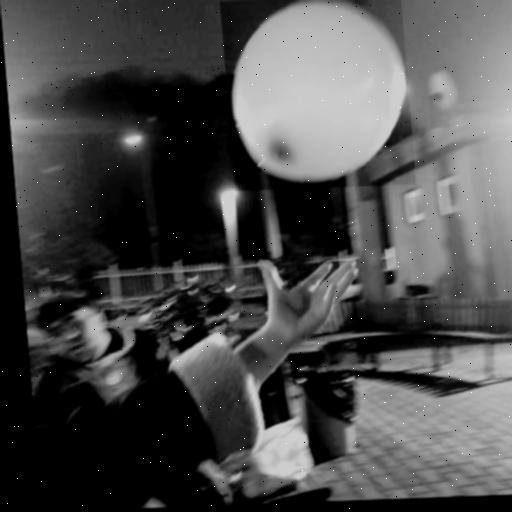balloon: (220, 0, 417, 191)
